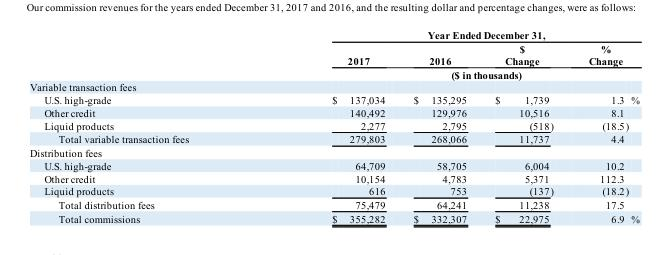table: (29, 29, 638, 223)
table column: (29, 29, 259, 223), (259, 29, 398, 223), (480, 29, 570, 223), (398, 29, 480, 223), (570, 29, 638, 223)
table column header: (29, 29, 638, 80)
table projected row header: (29, 80, 638, 93), (29, 145, 638, 158)
table row: (29, 41, 638, 67), (29, 118, 638, 132), (29, 197, 638, 211), (29, 67, 638, 80), (29, 80, 638, 93), (29, 93, 638, 106), (29, 132, 638, 145), (29, 145, 638, 158), (29, 158, 638, 171), (29, 171, 638, 184), (29, 184, 638, 197), (29, 29, 638, 41), (29, 106, 638, 118), (29, 211, 638, 223)
table spanning cell: (259, 67, 638, 80), (259, 29, 638, 41)
